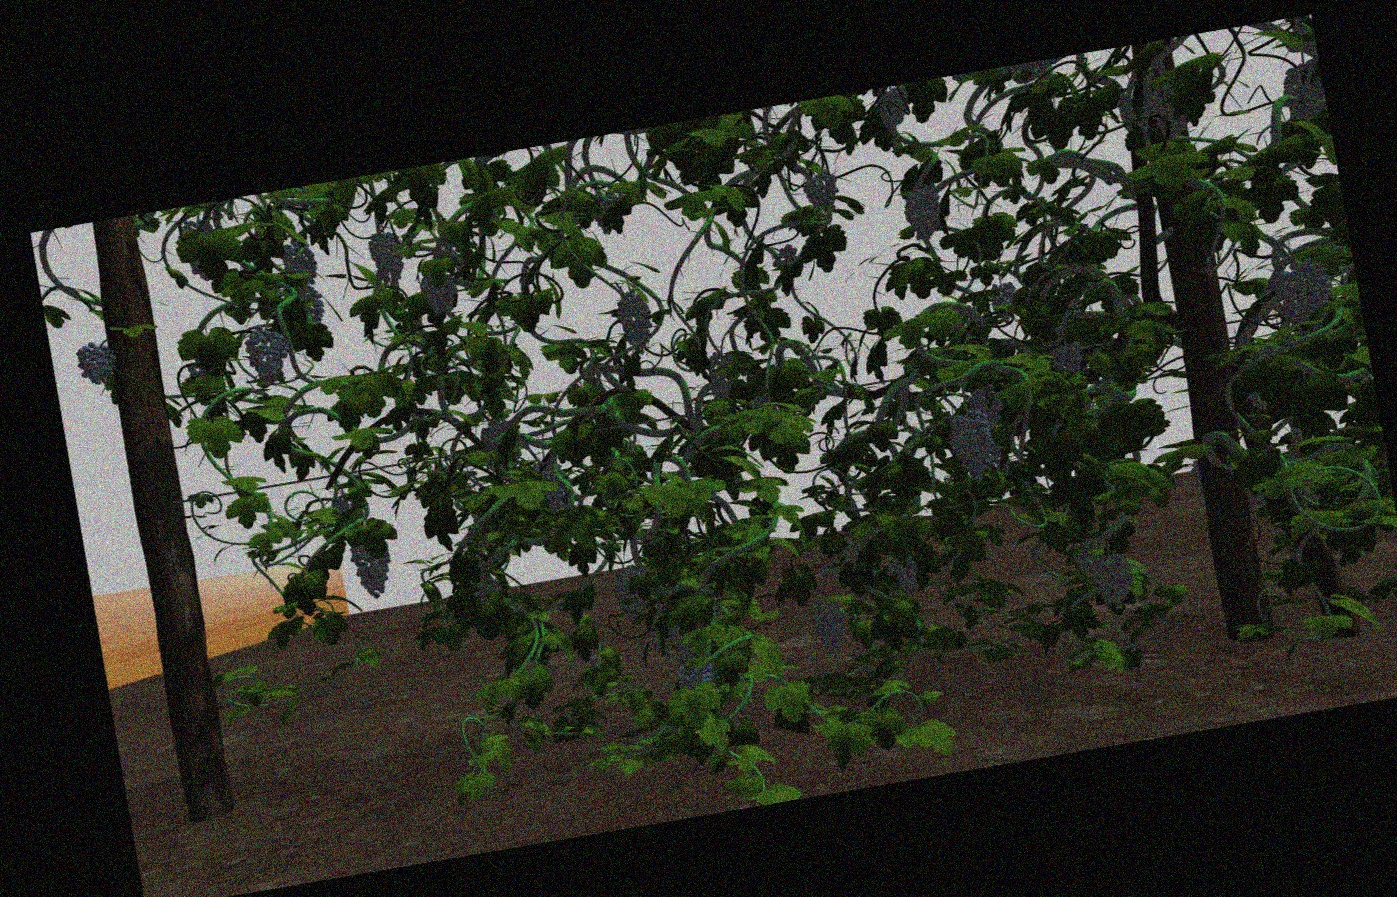grape: (1274, 258, 1334, 320), (950, 410, 995, 482), (351, 531, 393, 602), (245, 325, 293, 386), (1092, 553, 1134, 611), (1282, 61, 1322, 122), (814, 597, 850, 658), (903, 185, 943, 241), (618, 291, 653, 355), (369, 231, 404, 283), (706, 350, 742, 399), (614, 565, 645, 621), (77, 341, 117, 383), (282, 238, 317, 286), (420, 272, 456, 316), (887, 554, 919, 598), (803, 172, 838, 211), (880, 86, 910, 127), (970, 385, 1003, 424), (991, 281, 1019, 322), (676, 661, 714, 687), (1053, 341, 1084, 373)
